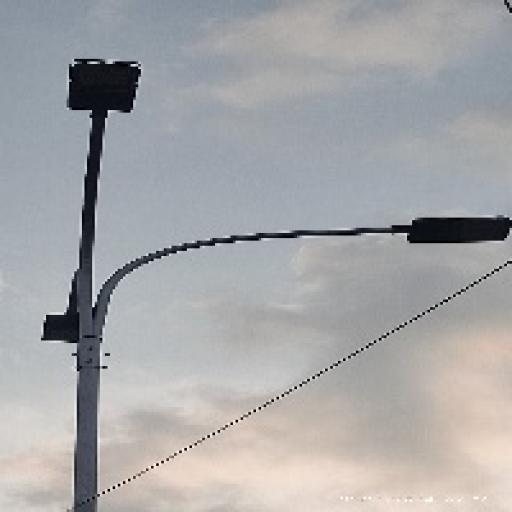Not Working: (56, 50, 154, 127), (389, 206, 512, 266)
